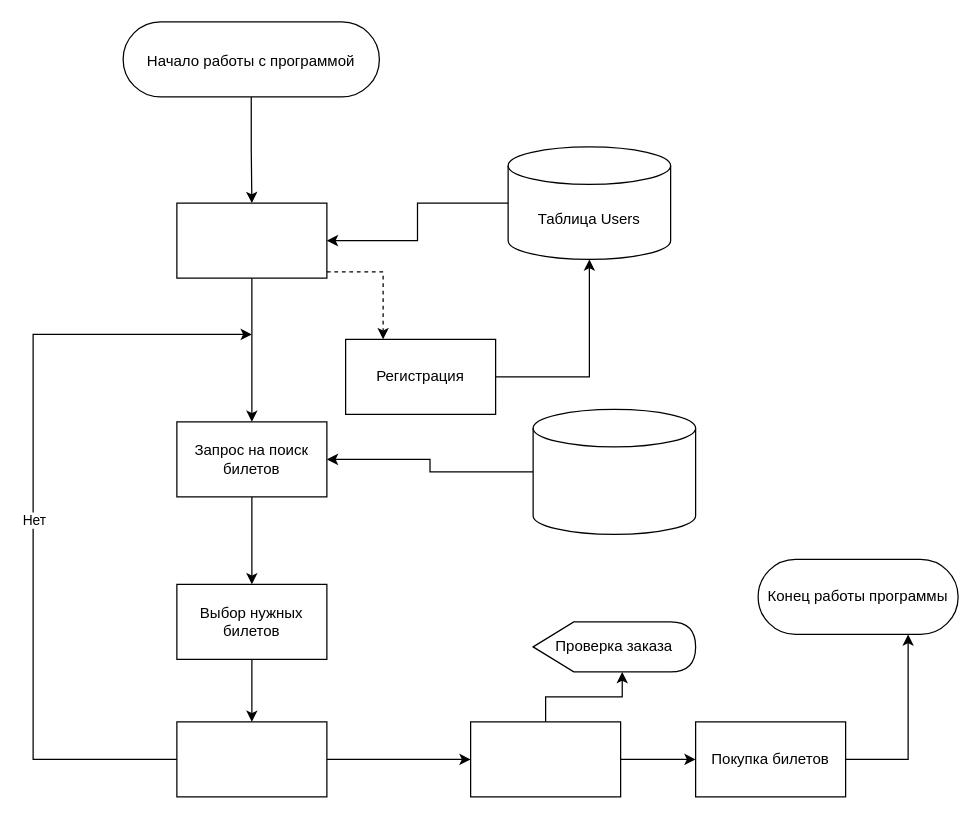
Image size: 980x819. Some labels were removed from this diagram. Here are the shapes that lost their labels. From the top down, the centre of each, then its label:
At point 251,240: "Авторизация".
At point 614,471: "Доступные рейсы, места в самолетах".
At point 251,759: "Оформление заказа?".
At point 545,759: "Обработка заказа".
